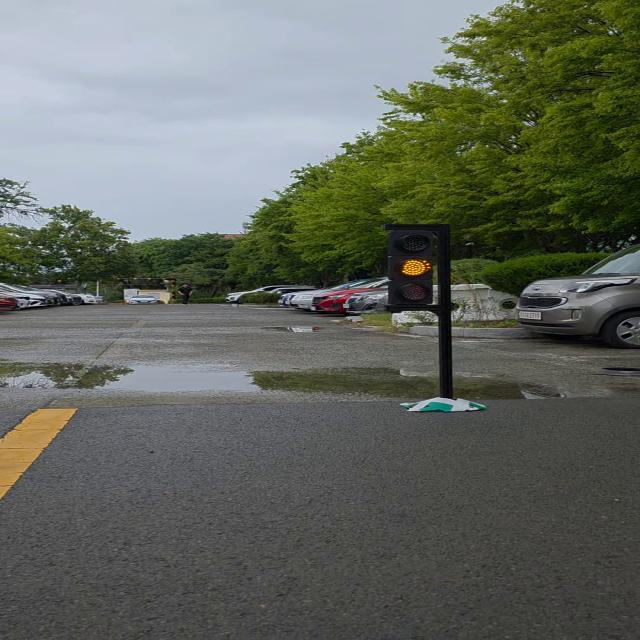yellow: (376, 222, 455, 312)
